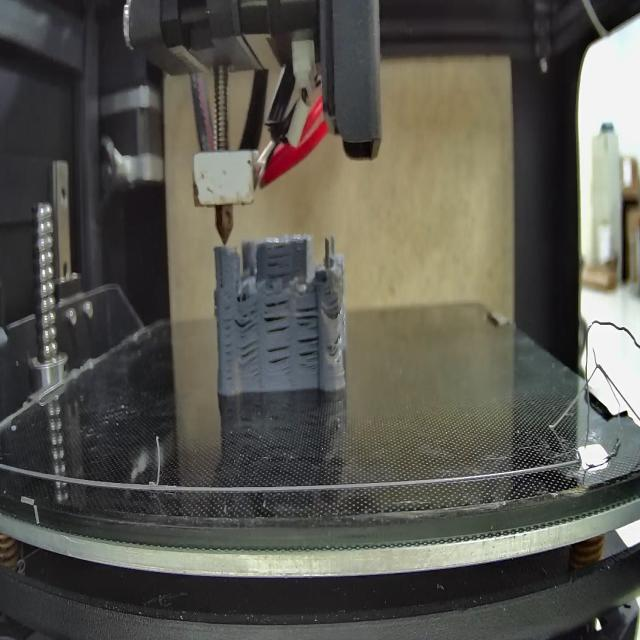cracks: (221, 302, 234, 384), (264, 299, 290, 335), (297, 332, 319, 368), (266, 248, 292, 278), (266, 341, 292, 369), (236, 306, 259, 334), (238, 340, 260, 368), (296, 303, 319, 329), (325, 298, 340, 318), (329, 335, 344, 351), (218, 279, 228, 292)
